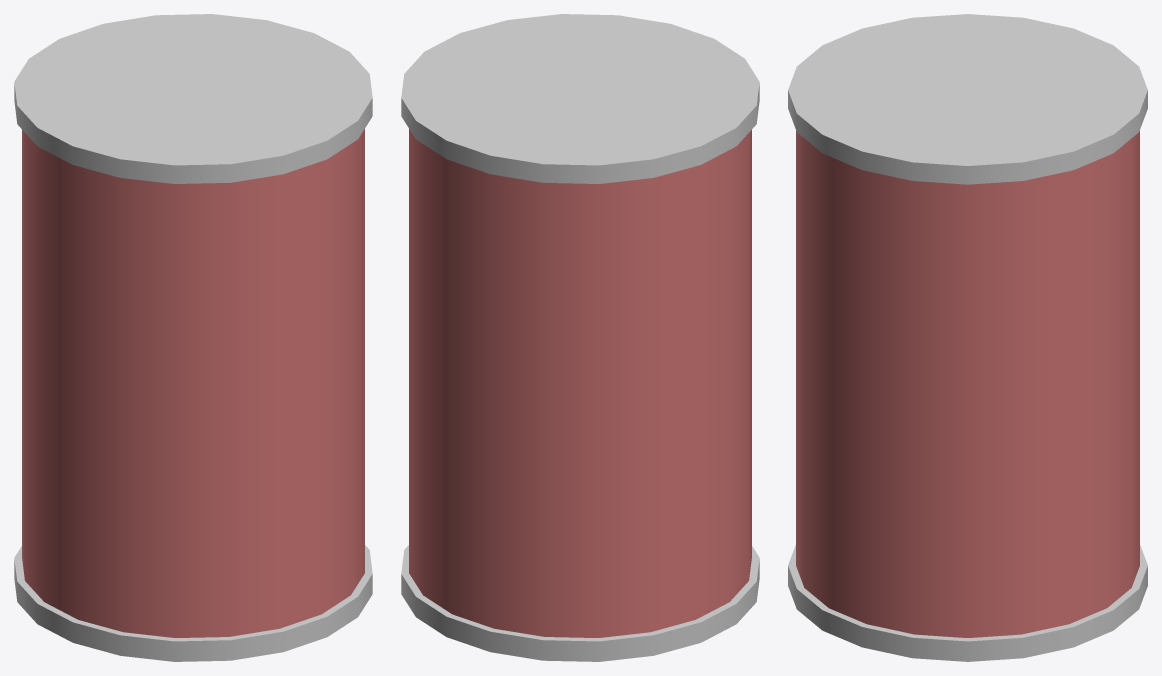
File: SodaCan.fbx
3 views of the same model, side by side, from view 1: azimuth 30°, elevation 25°; view 2: azimuth 150°, elevation 25°; view 3: azimuth 270°, elevation 25° (orthographic).
Parts seen in each view (by area): view 1: Coke1; view 2: Coke1; view 3: Coke1.
Part boxes in pixels (left/top/right/bottom): Coke1: left=14, top=14, right=372, bottom=661; Coke1: left=401, top=14, right=759, bottom=661; Coke1: left=788, top=14, right=1147, bottom=661.
Size of the model in its own units: 0.2464 by 0.3745 by 0.2464.
